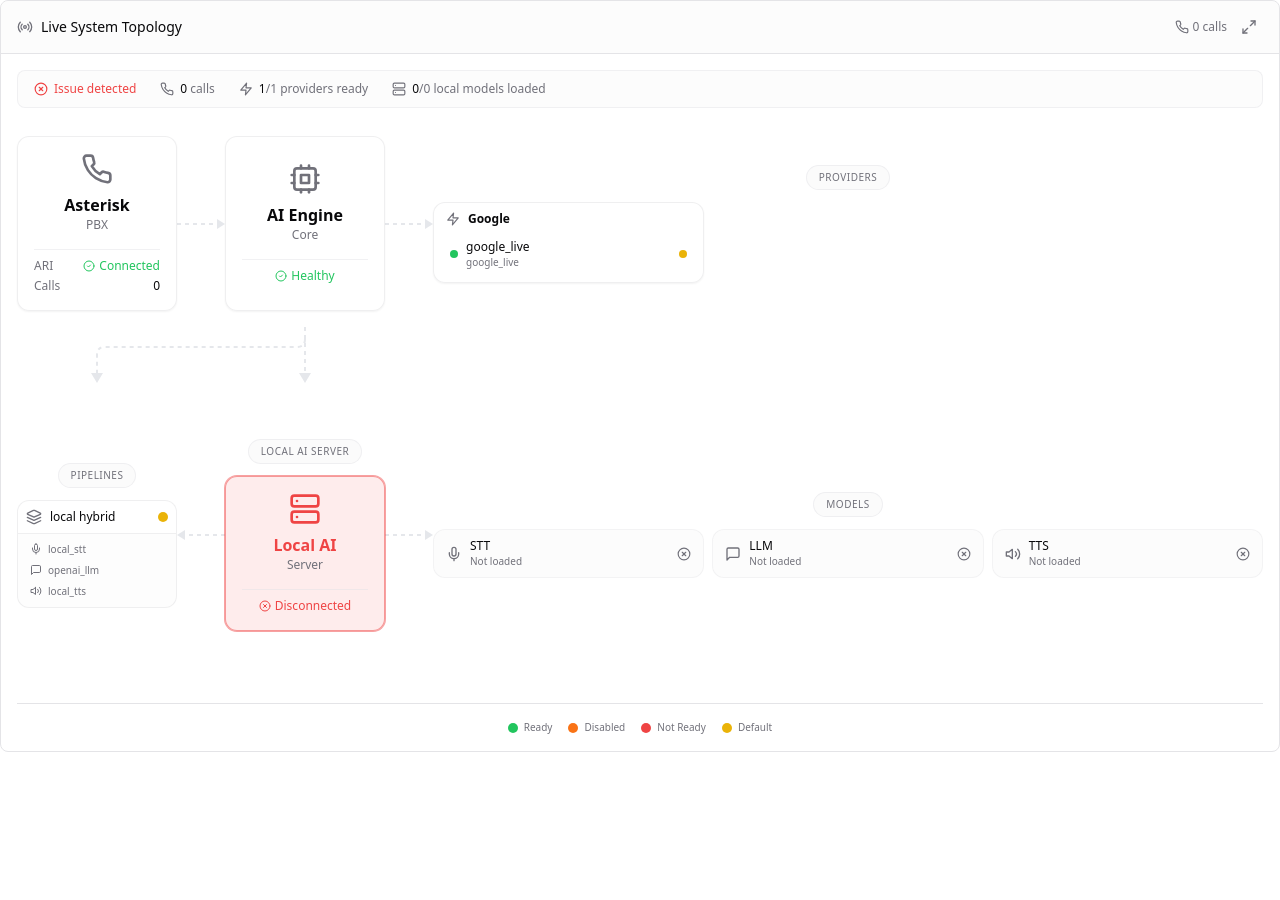
Scenario: SystemTopology dashboard health › treats contexts.default.pipeline local routes as Local AI requirements
Step 1. Click the button "Issue detected" → (85, 89), box [34,81,136,97]
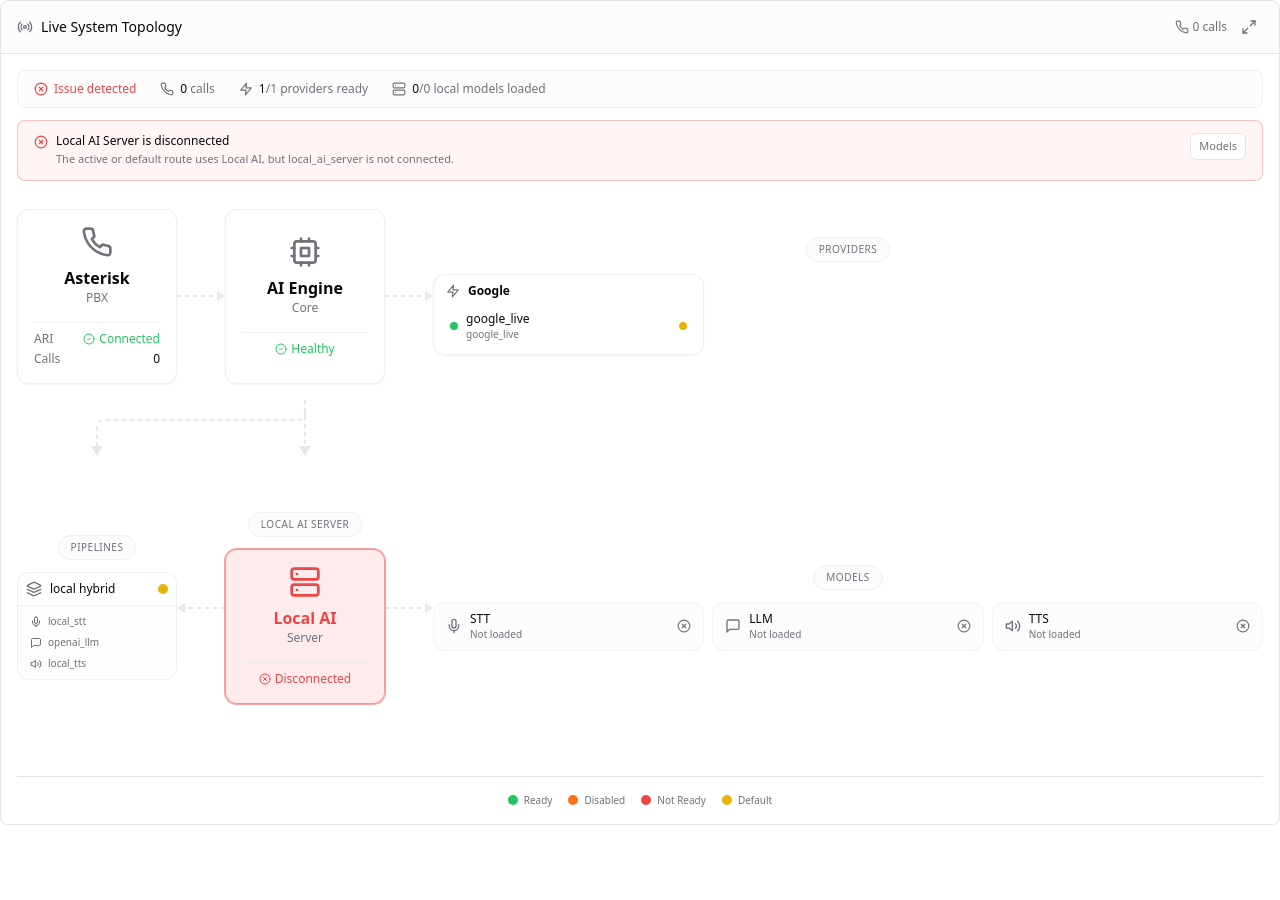
Now the text "Local AI Server is disconnected" is shown, box [56,132,229,149]
Now the text "The active or default route uses Local AI, but local_ai_server is not connected." is shown, box [56,151,454,168]
